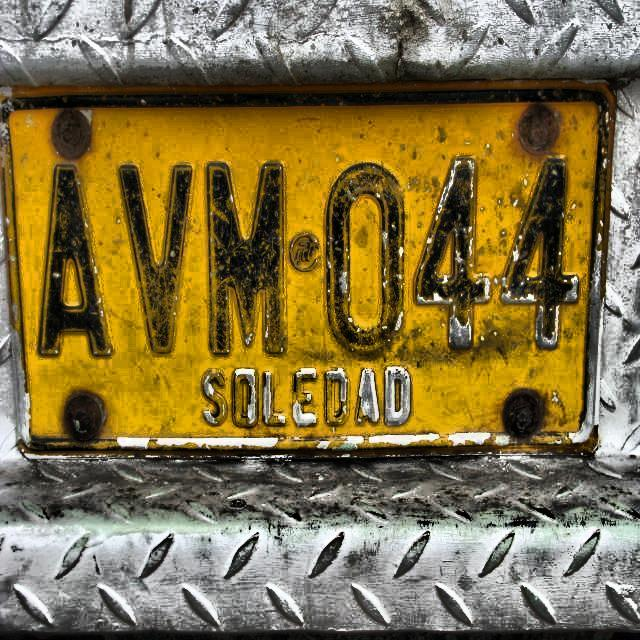plate: (1, 79, 618, 461)
